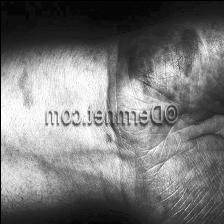Toxin: (122, 34, 205, 92)
